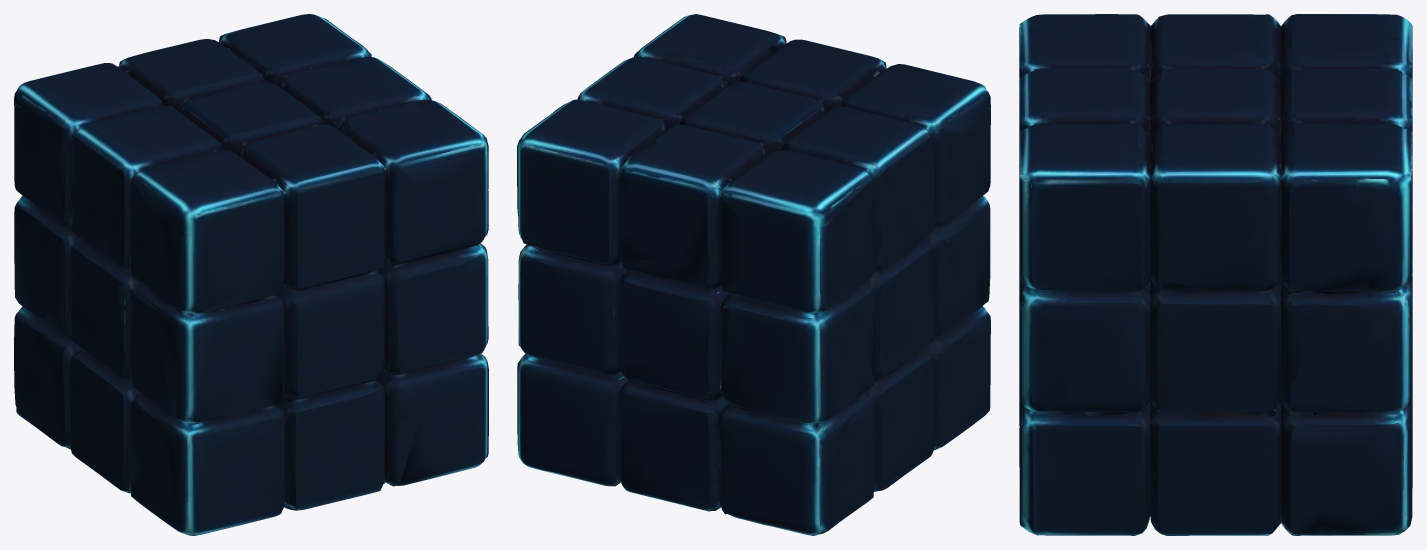
The model's file is plugin-cube.glb.
3 renders of one model, left to right at view 1: azimuth 30°, elevation 25°; view 2: azimuth 150°, elevation 25°; view 3: azimuth 270°, elevation 25°, orthographic. The views are drawn at different scales.
Visible parts, largest first — view 1: Mesh_0; view 2: Mesh_0; view 3: Mesh_0.
Boxes of the visible parts, x1,y1,x2,y2 form: Mesh_0: [14, 14, 488, 535]; Mesh_0: [517, 14, 990, 535]; Mesh_0: [1019, 14, 1412, 535].
Size of the model in its own units: 0.9347 by 0.9674 by 0.9346.
Materials: 1 (1 with a texture image).
